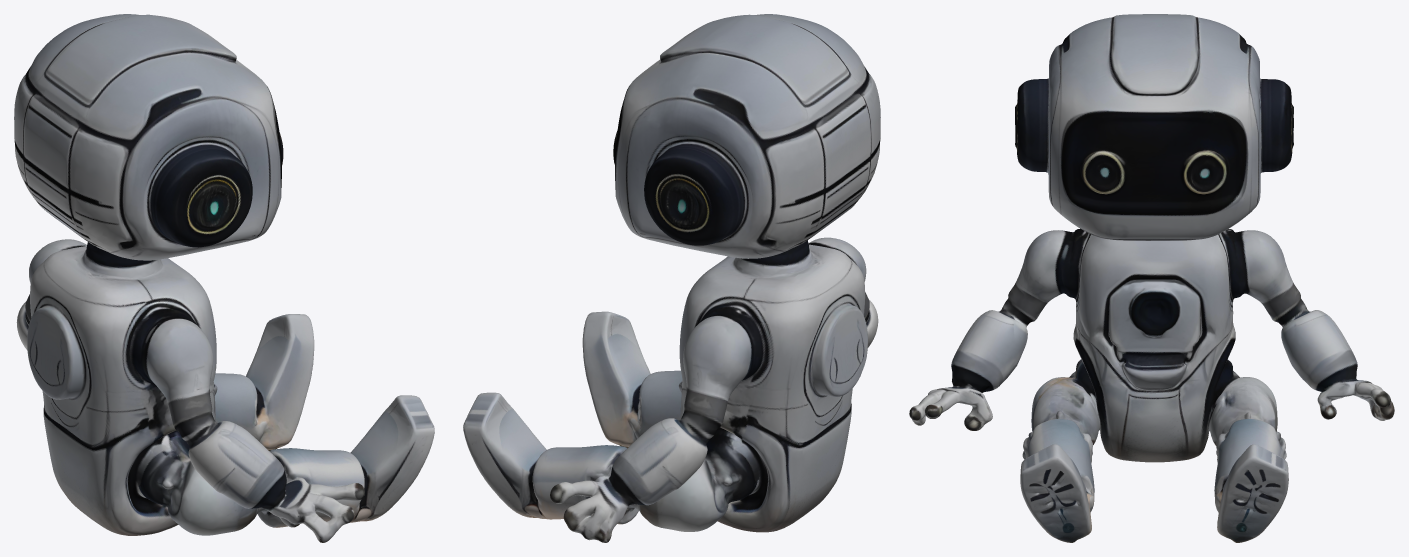
Rendered from glb100k.glb.
3 renders of one model, left to right at view 1: azimuth 30°, elevation 25°; view 2: azimuth 150°, elevation 25°; view 3: azimuth 270°, elevation 25°, orthographic. The views are drawn at different scales.
Parts seen in each view (by area): view 1: node0; view 2: node0; view 3: node0.
Part boxes in pixels (box(x1,y1,x2,y2)): node0: box(14, 14, 434, 542); node0: box(463, 14, 880, 542); node0: box(909, 14, 1394, 542).
Bounding box in the file's own units: 0.6246 × 0.9274 × 0.9227.
Materials: 1 (1 with a texture image).
